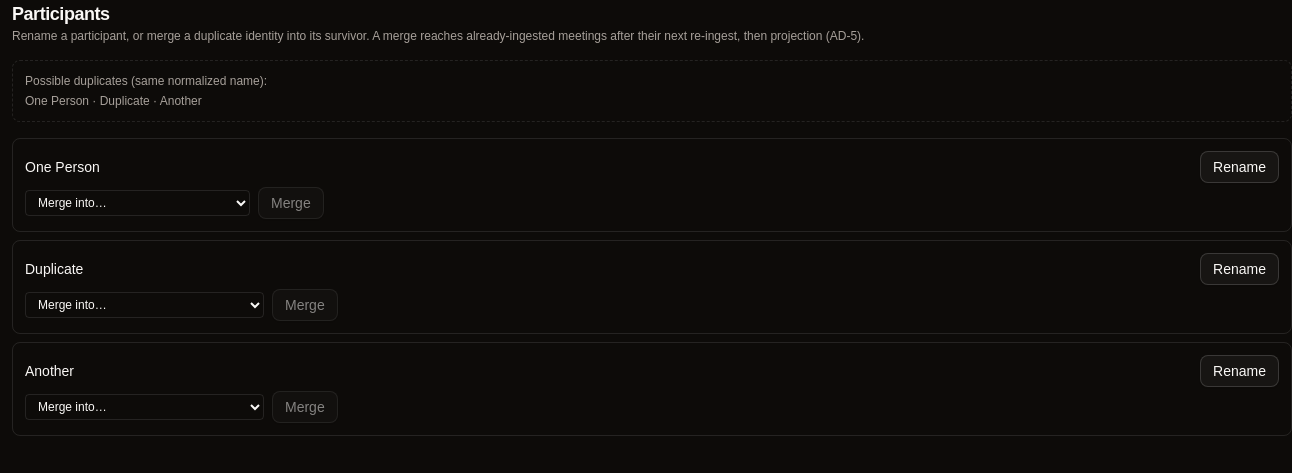
it: Participants › associates a merge error with the row that failed, not a global region
Expected: the list item with test id "participant-row-p-2" is shown, [12,240,1291,334]
Select "One Person (mail:one@contoso.com)" in the dropdown with test id "merge-select-p-2" at (144, 305), box [25,292,264,318]
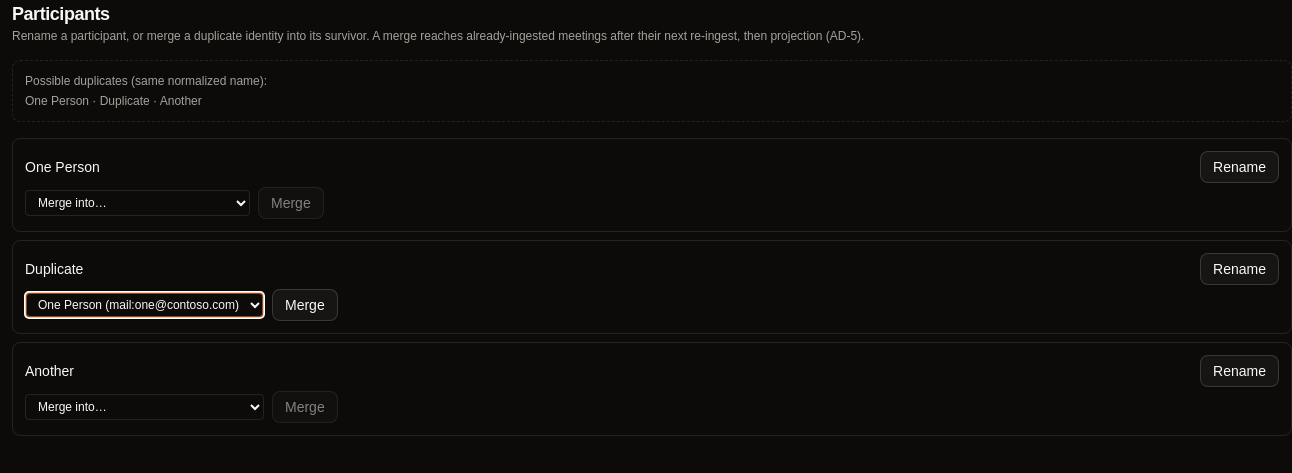
Click the button with test id "merge-button-p-2" at (305, 305), box [272,289,338,321]
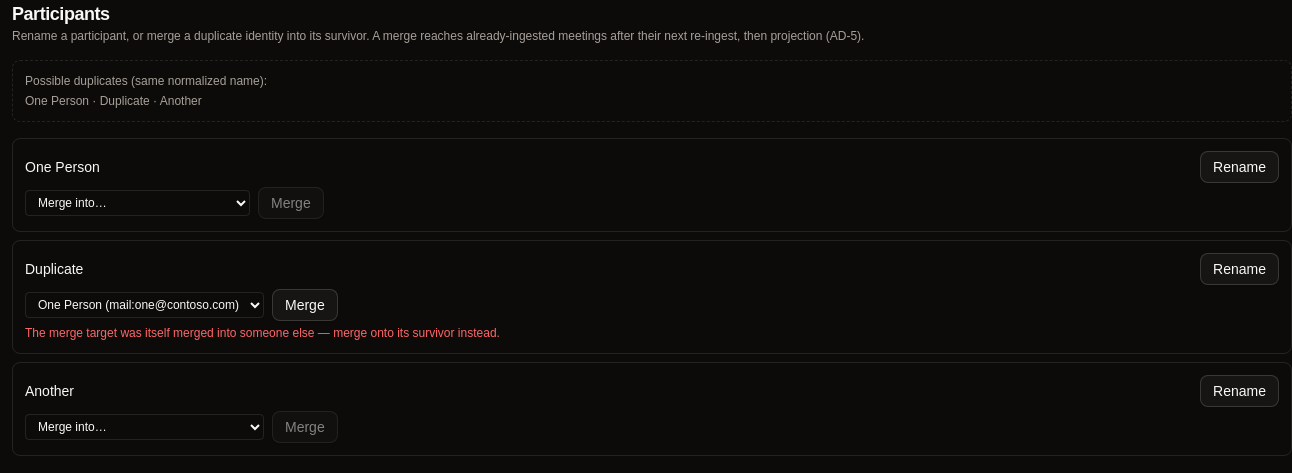
Now the message with test id "merge-error-p-2" is shown, box [25,326,500,340]
